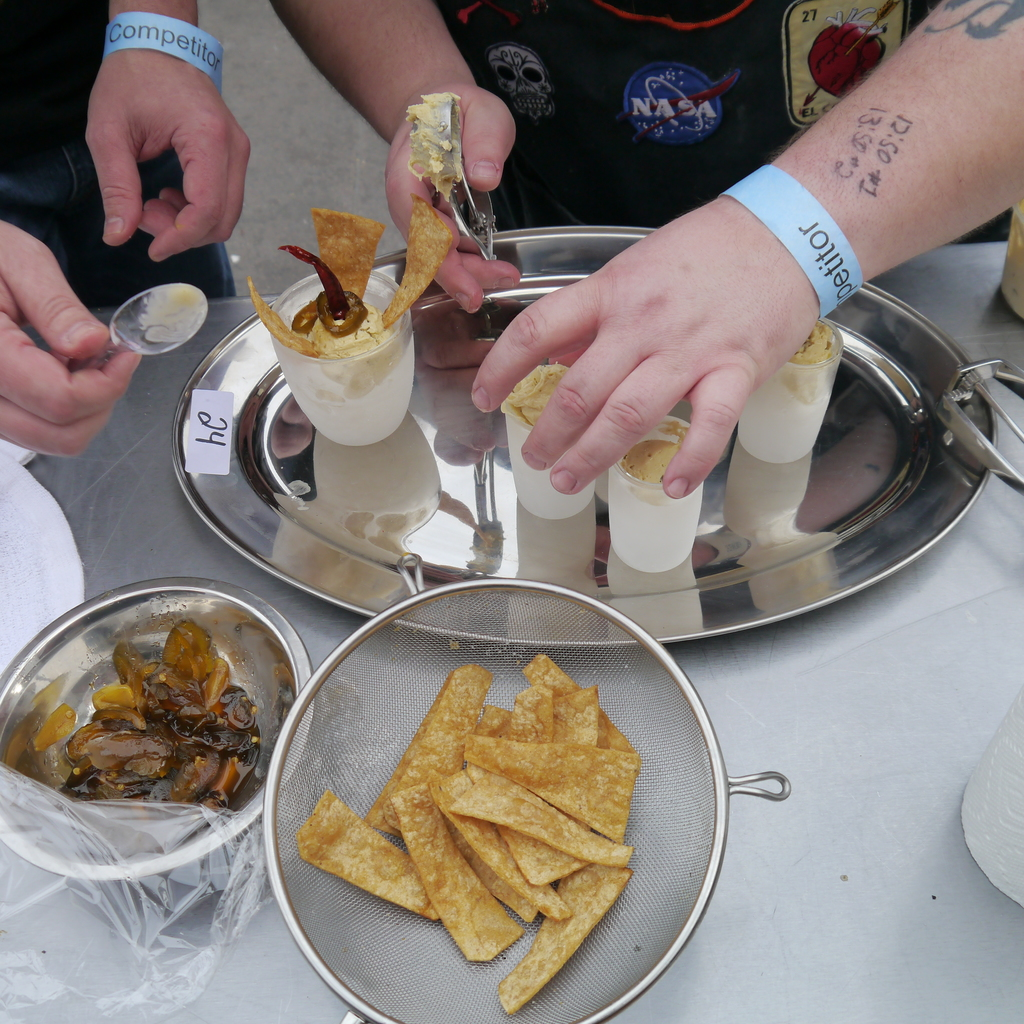French fries: (343, 692, 663, 952)
